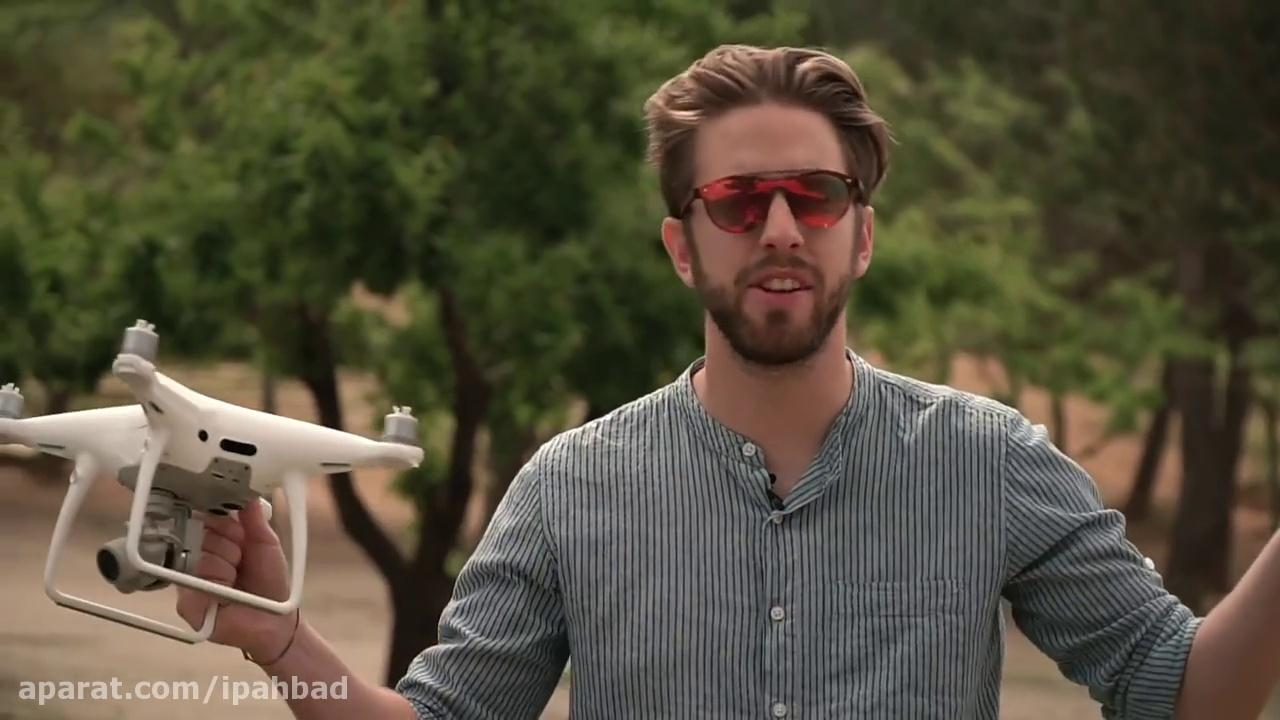drone: (0, 314, 424, 645)
